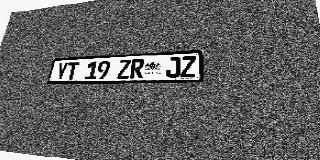plate: (47, 50, 204, 84)
